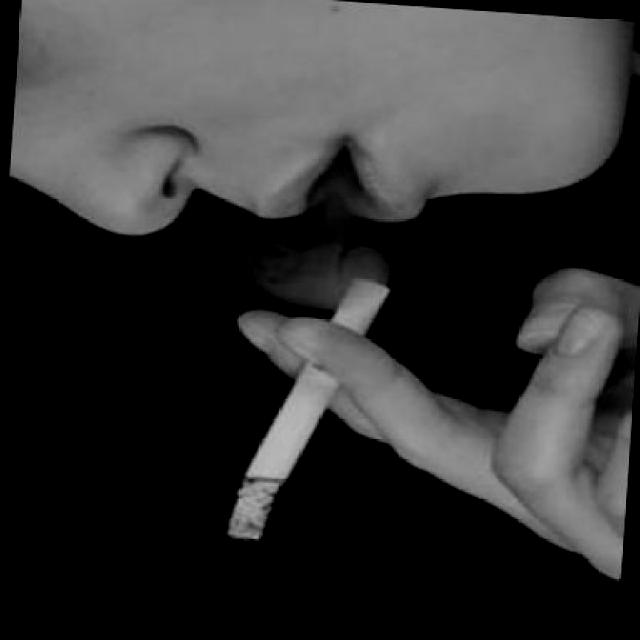cigarette: (222, 269, 395, 554)
